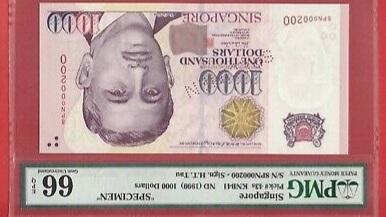1000SingaporeDollar: (40, 4, 347, 153)
